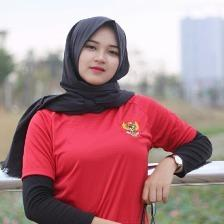Non Syar-i: (28, 15, 142, 119)
